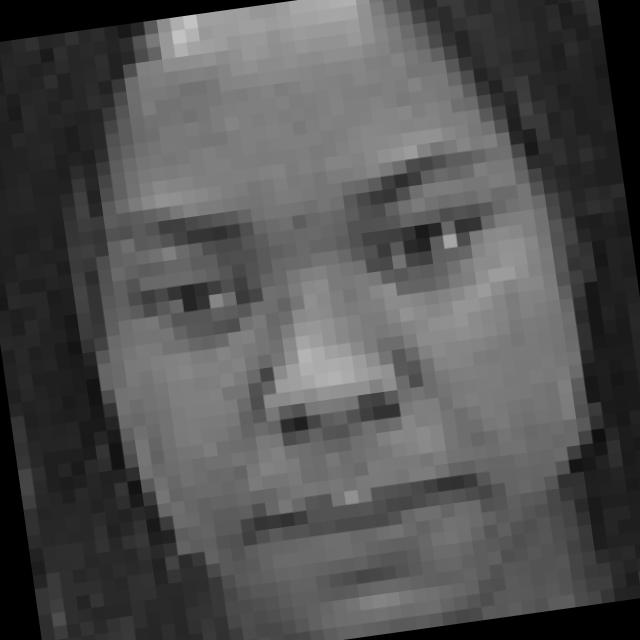neutral: (95, 130, 568, 620)
